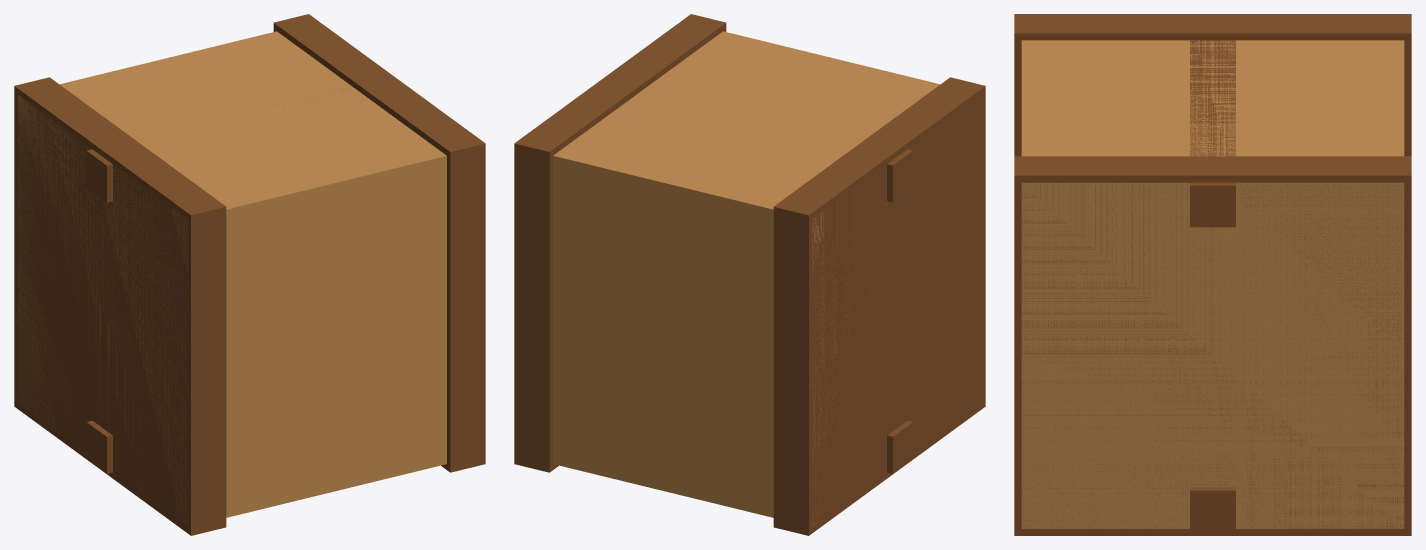
File: crate.glb
The picture shows the model from 3 angles, left to right: view 1: azimuth 30°, elevation 25°; view 2: azimuth 150°, elevation 25°; view 3: azimuth 270°, elevation 25°; orthographic projection. The views are drawn at different scales.
Parts seen in each view (by area): view 1: crate; view 2: crate; view 3: crate.
Boxes of the visible parts, x1,y1,x2,y2 form: crate: [14, 14, 485, 535]; crate: [514, 14, 985, 535]; crate: [1014, 14, 1411, 535].
Bounding box in the file's own units: 0.52 × 0.52 × 0.52.
